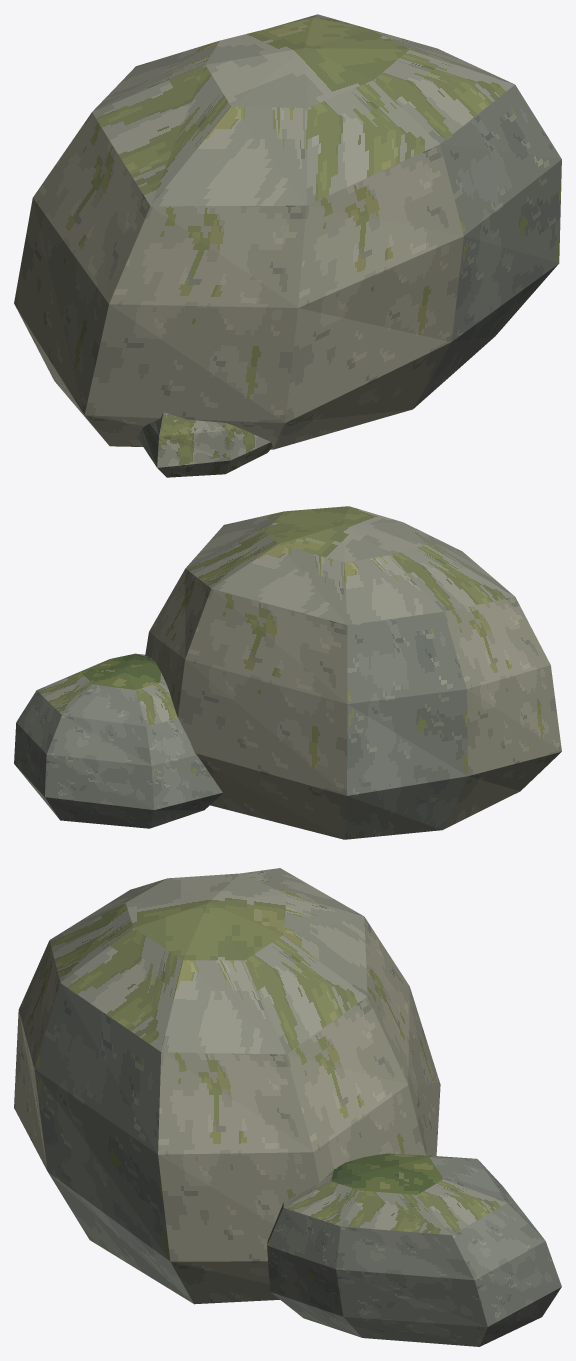
Rendered from rock_field.glb.
The picture shows the model from 3 angles, top to bottom: view 1: azimuth 30°, elevation 25°; view 2: azimuth 150°, elevation 25°; view 3: azimuth 270°, elevation 25°; orthographic projection. The views are drawn at different scales.
Visible parts, largest first — view 1: rock_field; view 2: rock_field; view 3: rock_field.
Boxes of the visible parts, box(x1,y1,x2,y2) form: rock_field: box(14, 14, 561, 477); rock_field: box(14, 506, 561, 839); rock_field: box(14, 868, 561, 1346).
Bounding box in the file's own units: 1.72 × 0.9524 × 1.5.
Materials: 1 (1 with a texture image).
